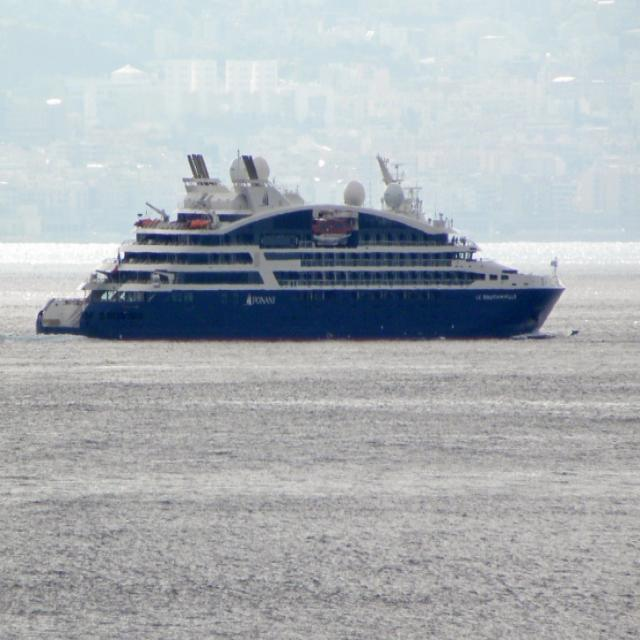cruises: (28, 137, 577, 358)
